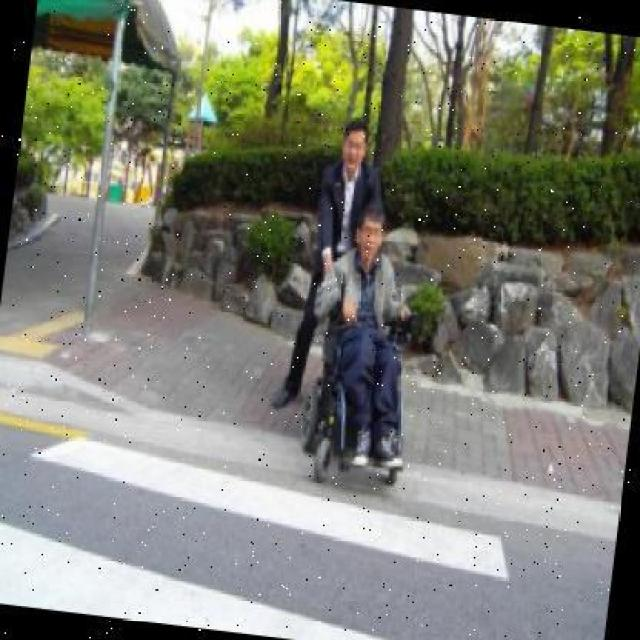Person: (295, 194, 430, 489), (270, 112, 384, 414)
